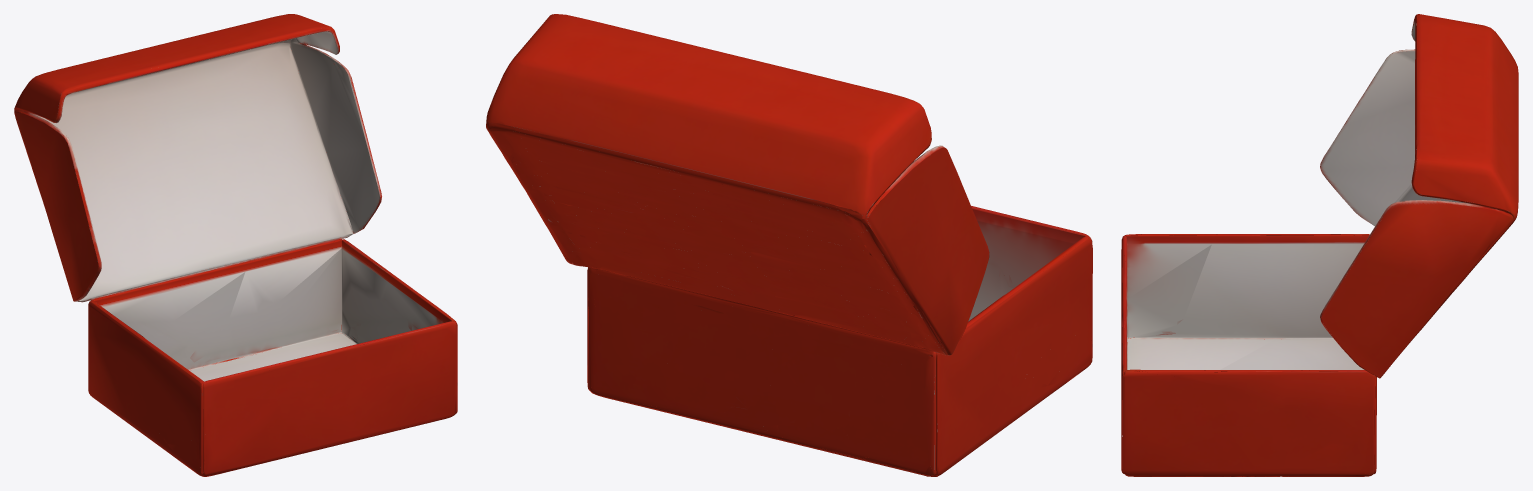
3 renders of one model, left to right at view 1: azimuth 30°, elevation 25°; view 2: azimuth 150°, elevation 25°; view 3: azimuth 270°, elevation 25°, orthographic. The views are drawn at different scales.
Visible parts, largest first — view 1: node_0; view 2: node_0; view 3: node_0.
Part boxes in pixels (bbox=[...]): node_0: bbox=[14, 14, 457, 476]; node_0: bbox=[486, 14, 1092, 476]; node_0: bbox=[1121, 14, 1518, 476].
Bounding box in the file's own units: 0.7091 × 0.6994 × 0.7713.
Materials: 1 (1 with a texture image).
